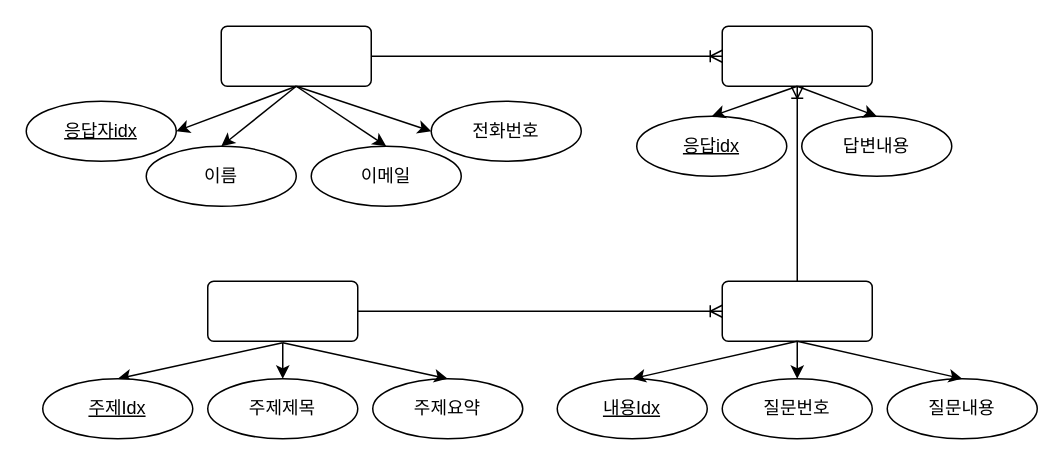
This 1064x465 diagram has some shape labels left out. Here are the shapes that lost their labels. From the top down, the centre of each, then its label:
At [295,55]: "설문응답자".
At [796,55]: "설문응답".
At [282,310]: "설문주제".
At [796,310]: "설문내용들".
